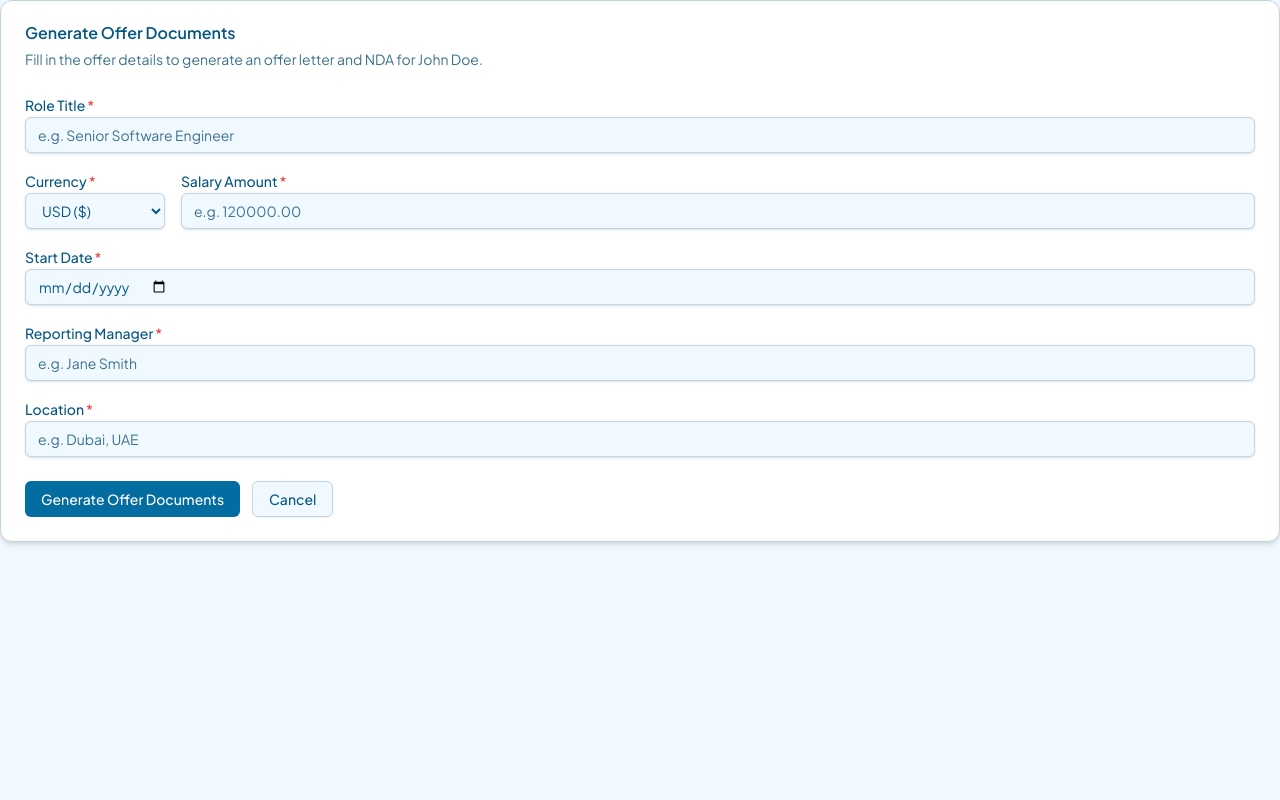
Test case: OfferGenerationForm › Client-side Validation › shows all errors when form is submitted empty
Click the button "Generate Offer Documents" at (133, 499), box [25,481,240,517]
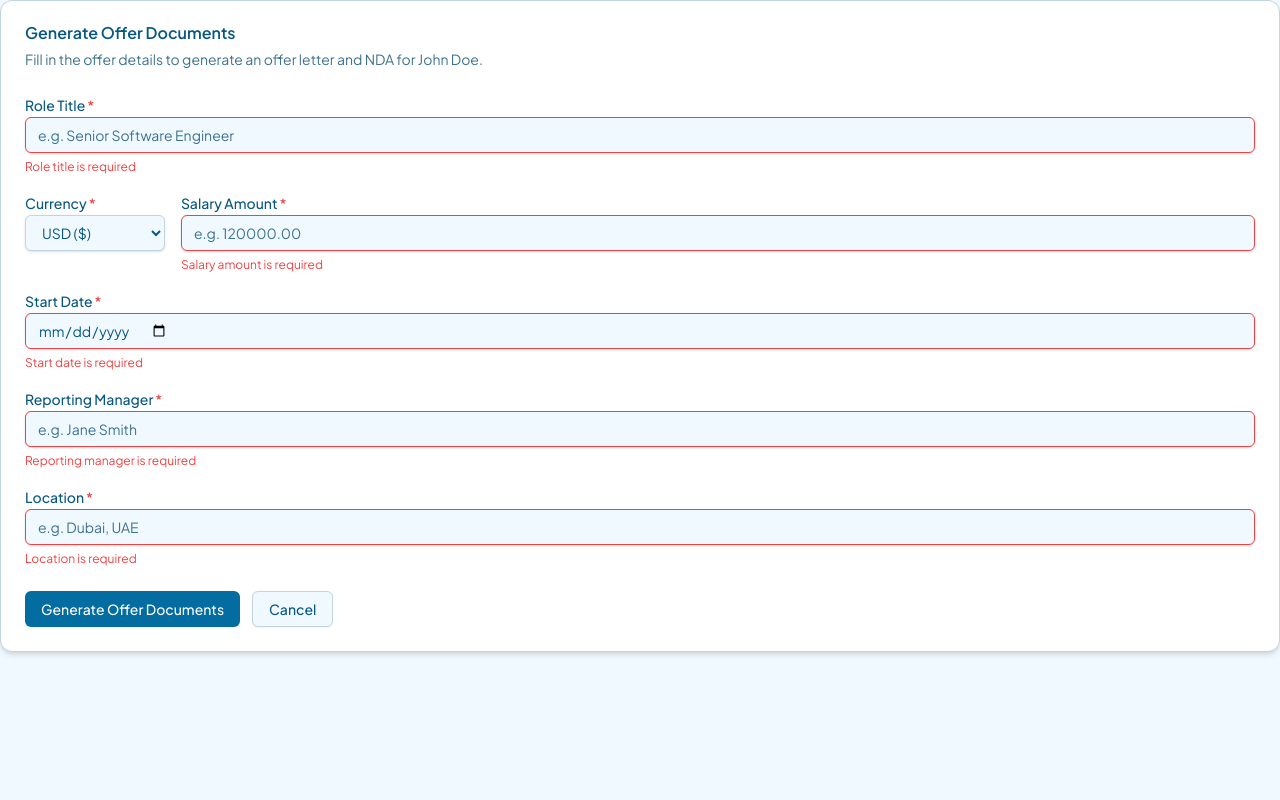
Expected: the text "Role title is required" is shown, [25,159,136,174]
Expected: the text "Salary amount is required" is shown, [181,257,323,272]
Expected: the text "Start date is required" is shown, [25,355,143,370]
